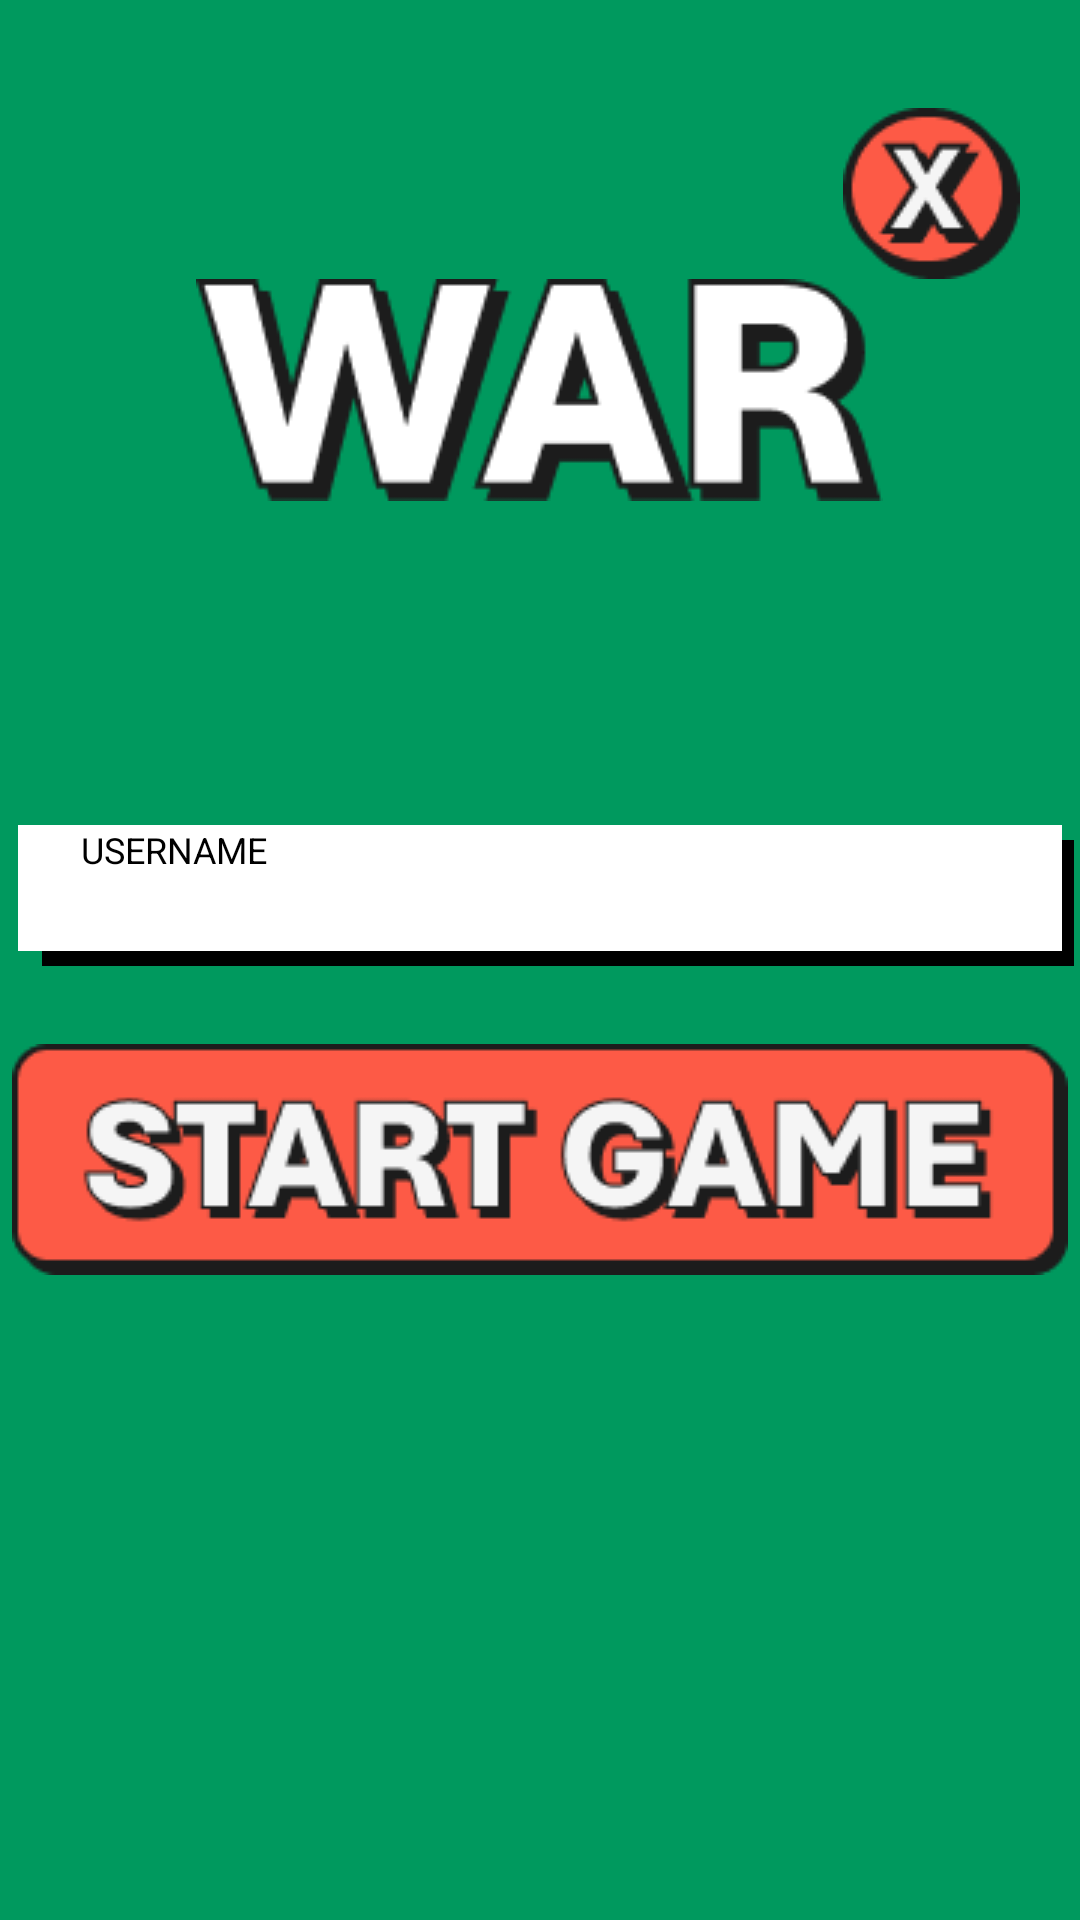

Icon click points for this 1080x1920 phone screenshot, format (x,y):
exit: (931,193)
